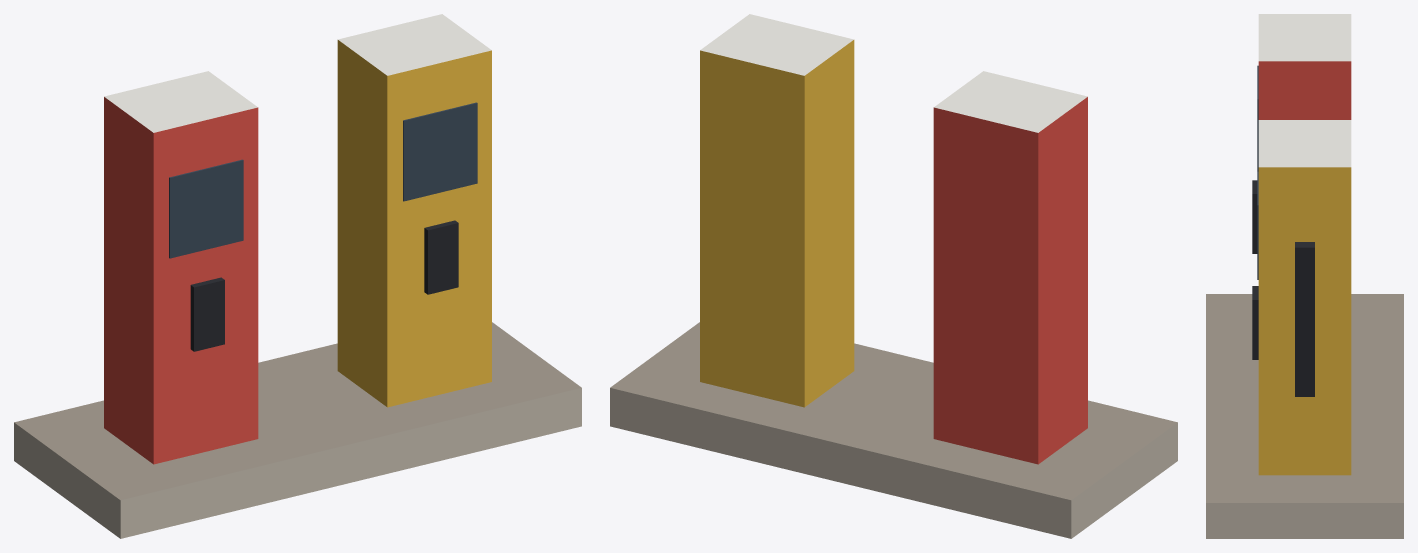
The model's file is P_GasPump.fbx.
The picture shows the model from 3 angles, left to right: view 1: azimuth 30°, elevation 25°; view 2: azimuth 150°, elevation 25°; view 3: azimuth 270°, elevation 25°; orthographic projection. The views are drawn at different scales.
Parts seen in each view (by area): view 1: P_GasPump; view 2: P_GasPump; view 3: P_GasPump.
Part boxes in pixels (box(x1,y1,x2,y2)): P_GasPump: box(14, 14, 581, 538); P_GasPump: box(610, 14, 1177, 538); P_GasPump: box(1206, 14, 1403, 538).
Bounding box in the file's own units: 1.5 × 1.15 × 0.6.
